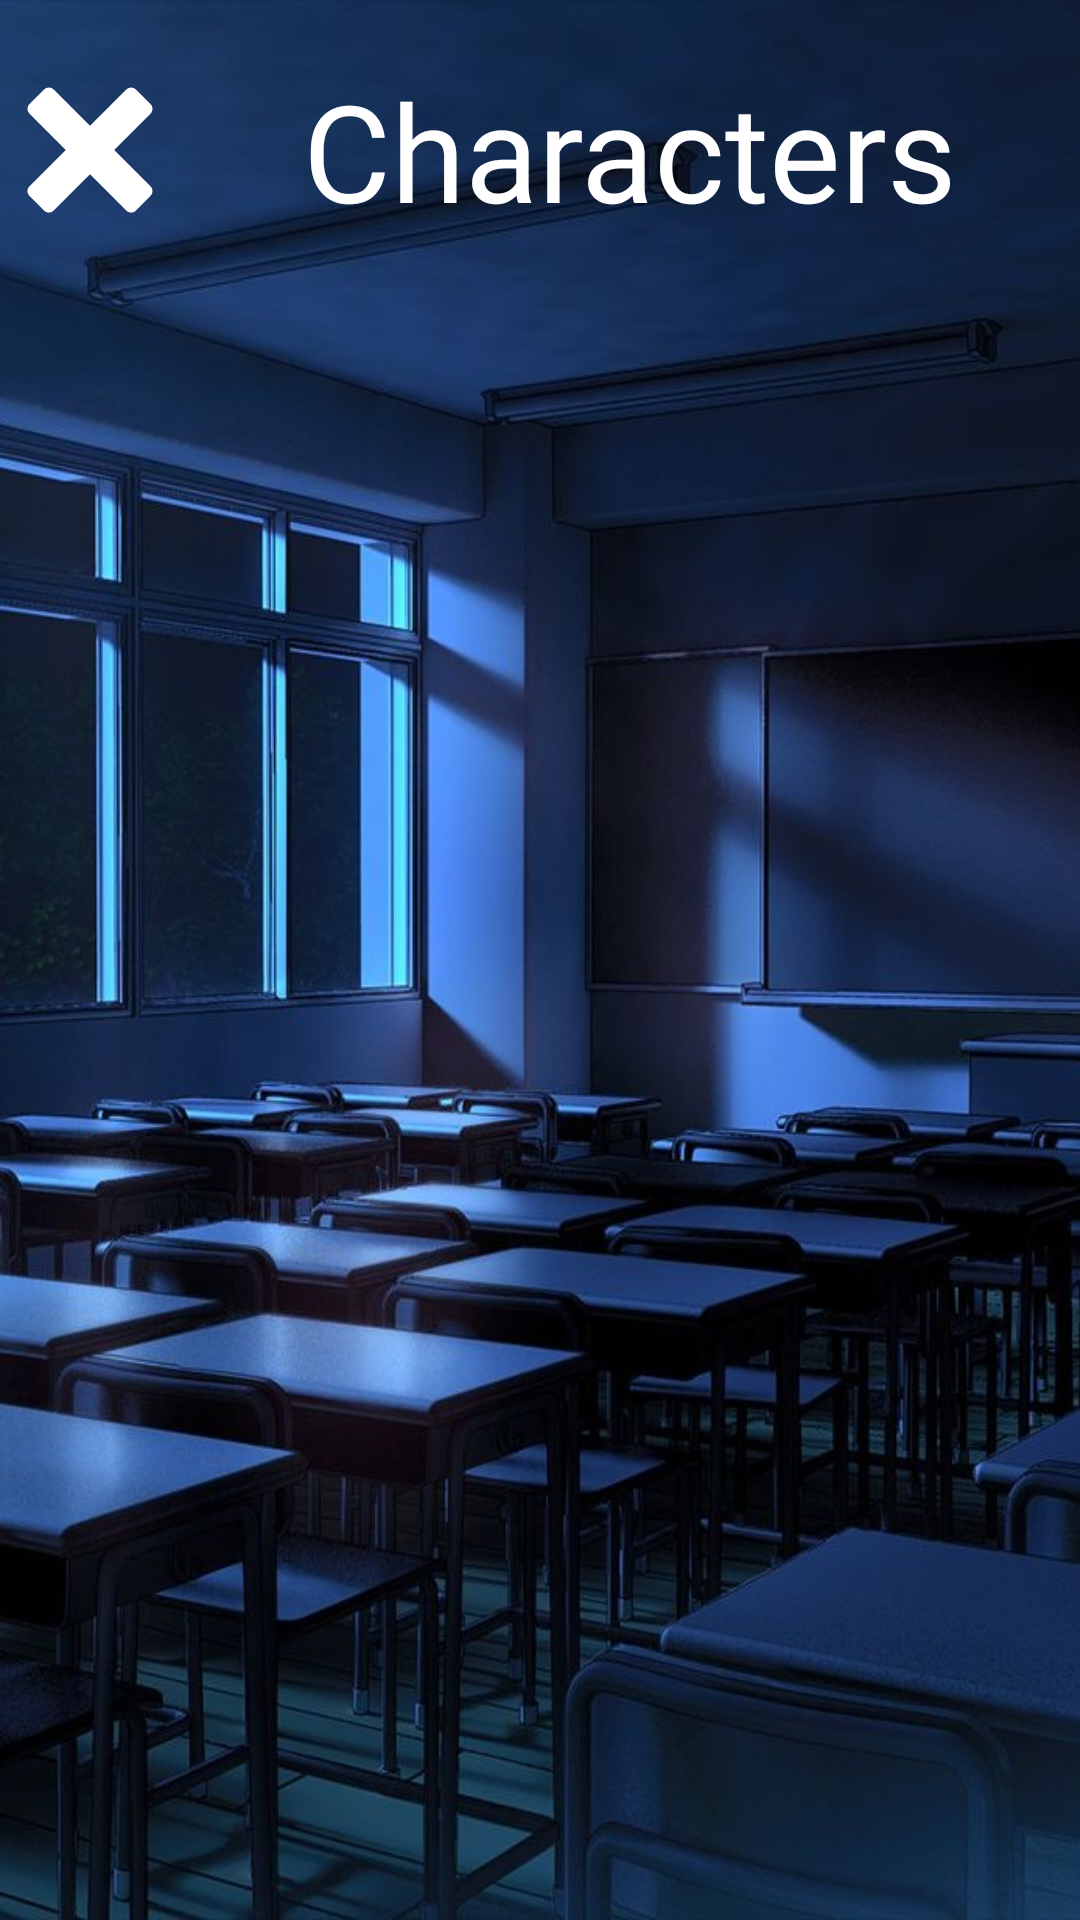

Screen size 1080x1920. Icon name, then its box in pixels as (x1, y1, x2, y2):
close: (27, 87, 153, 213)
